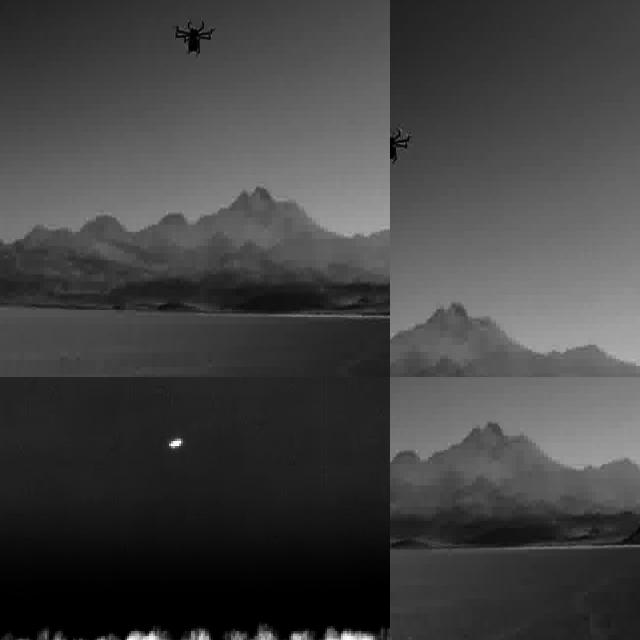1: (160, 431, 196, 461)
drone: (170, 9, 217, 65), (390, 121, 412, 168)
